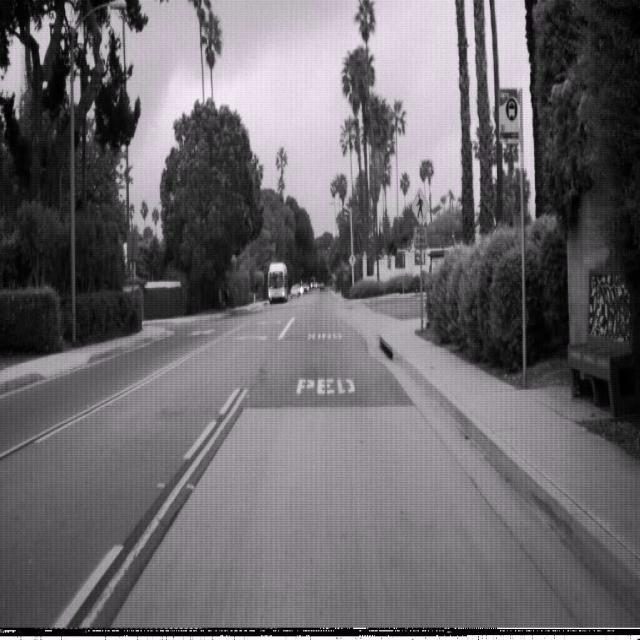pedestrianCrossing: (410, 185, 430, 226)
